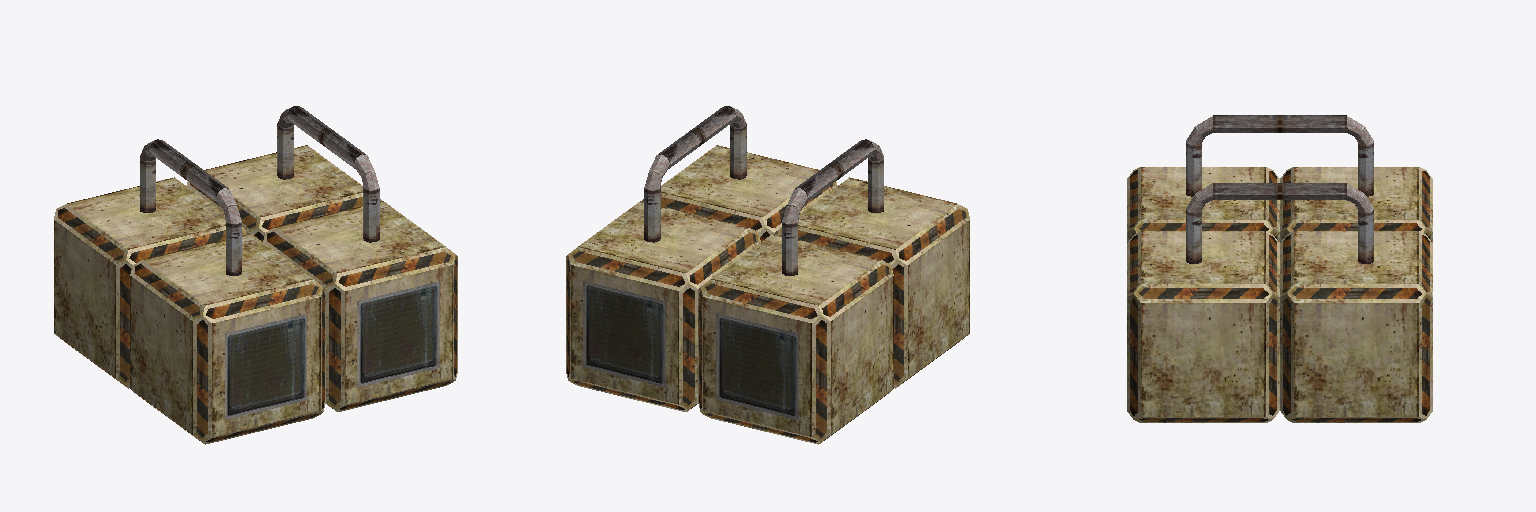
3 renders of one model, left to right at view 1: azimuth 30°, elevation 25°; view 2: azimuth 150°, elevation 25°; view 3: azimuth 270°, elevation 25°, orthographic.
Visible parts, largest first — view 1: Cube, Cylinder; view 2: Cube, Cylinder; view 3: Cube, Cylinder.
Boxes of the visible parts, x1=… form: Cube: x1=54, y1=145, x2=457, y2=444; Cylinder: x1=140, y1=106, x2=379, y2=275; Cube: x1=566, y1=145, x2=969, y2=444; Cylinder: x1=644, y1=106, x2=883, y2=275; Cube: x1=1127, y1=167, x2=1432, y2=422; Cylinder: x1=1186, y1=115, x2=1373, y2=263.
Size of the model in its own units: 4.4 by 3.43 by 4.4.
1 materials, 1 textured.